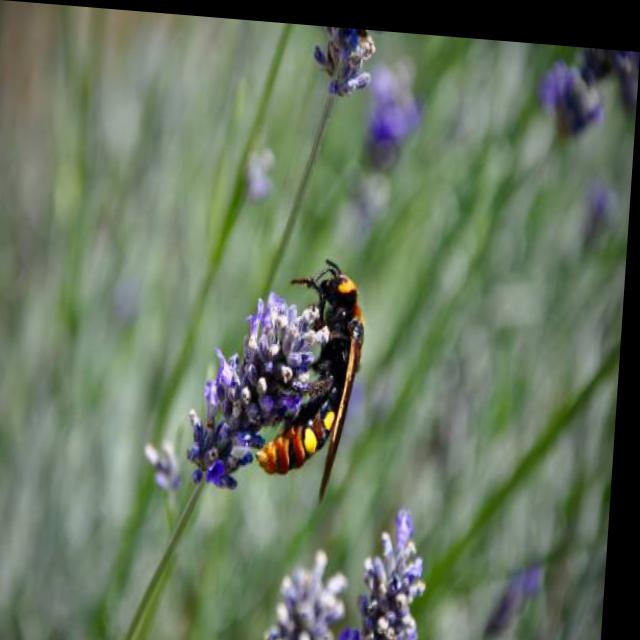Vespa Crabro: (259, 212, 394, 494)
